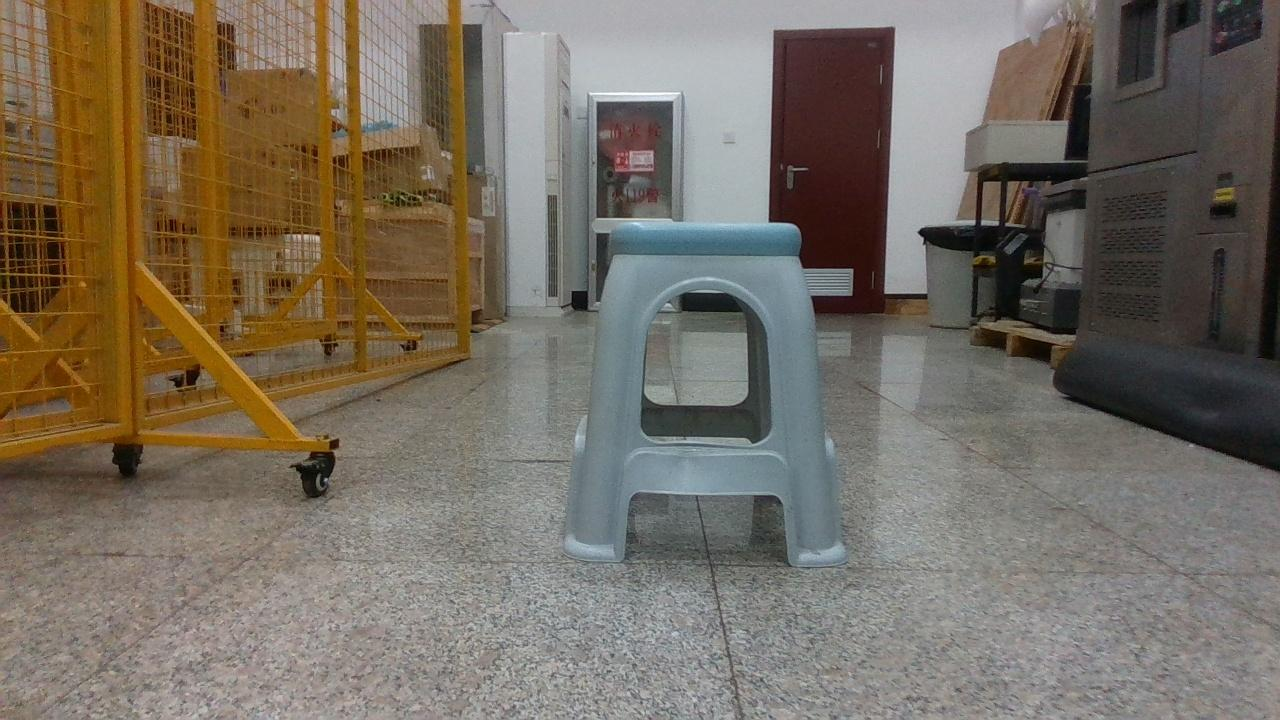stool: (562, 222, 848, 568)
